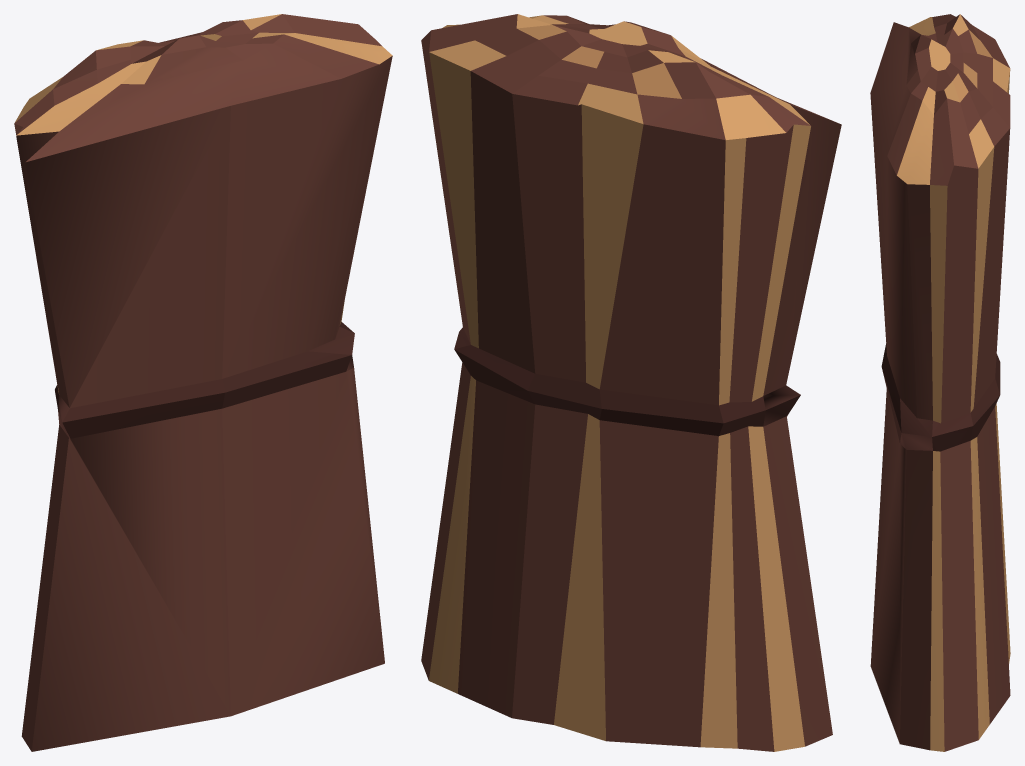
The model's file is icon_hay.fbx.
3 renders of one model, left to right at view 1: azimuth 30°, elevation 25°; view 2: azimuth 150°, elevation 25°; view 3: azimuth 270°, elevation 25°, orthographic. The views are drawn at different scales.
Parts seen in each view (by area): view 1: icon_hay; view 2: icon_hay; view 3: icon_hay.
Part boxes in pixels (bbox=[...]): icon_hay: bbox=[14, 14, 392, 751]; icon_hay: bbox=[421, 14, 841, 751]; icon_hay: bbox=[870, 14, 1010, 751].
Size of the model in its own units: 25.3 by 41.92 by 8.61.
